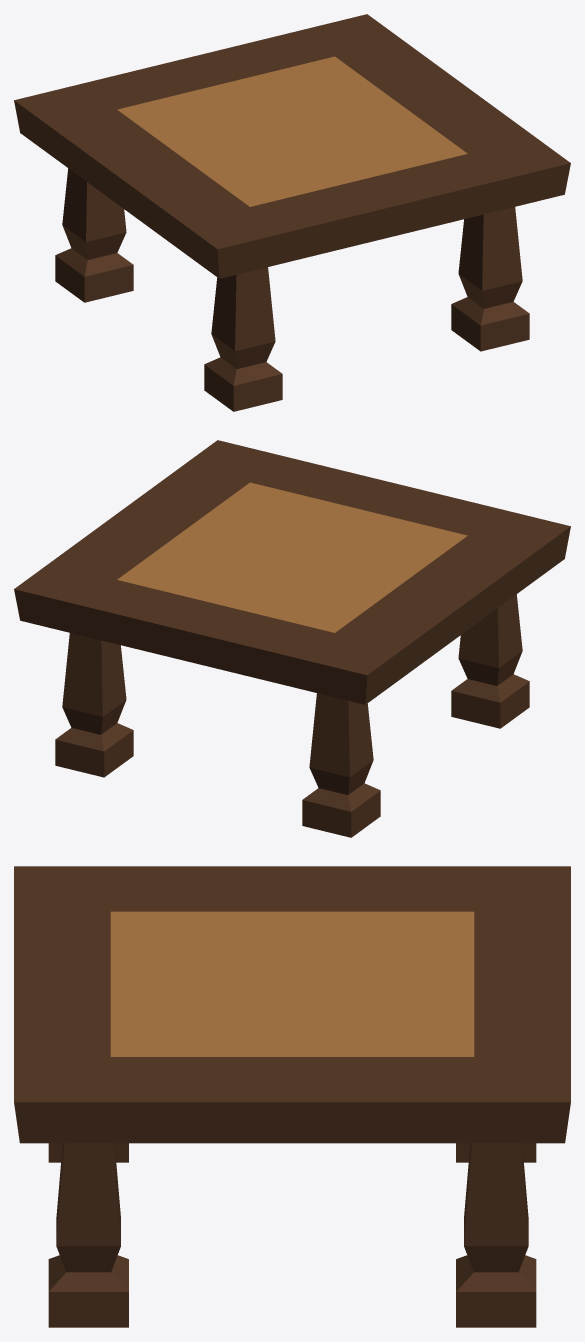
The model's file is Table.fbx.
3 renders of one model, top to bottom at view 1: azimuth 30°, elevation 25°; view 2: azimuth 150°, elevation 25°; view 3: azimuth 270°, elevation 25°, orthographic. The views are drawn at different scales.
Visible parts, largest first — view 1: Table; view 2: Table; view 3: Table.
Boxes of the visible parts, bbox=[...] form: Table: bbox=[14, 14, 570, 411]; Table: bbox=[14, 440, 570, 837]; Table: bbox=[14, 866, 570, 1327].
Bounding box in the file's own units: 1.82 × 0.8779 × 1.81.
